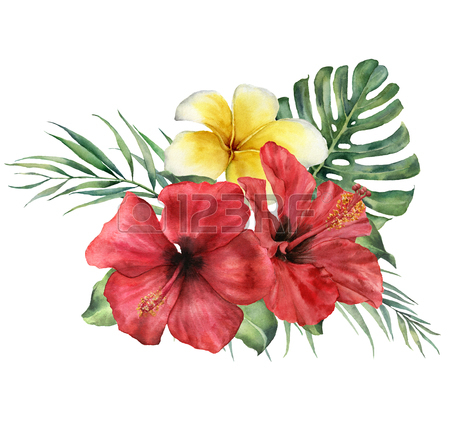Hibiscus: (91, 188, 269, 356), (239, 164, 390, 332), (168, 86, 320, 196)
